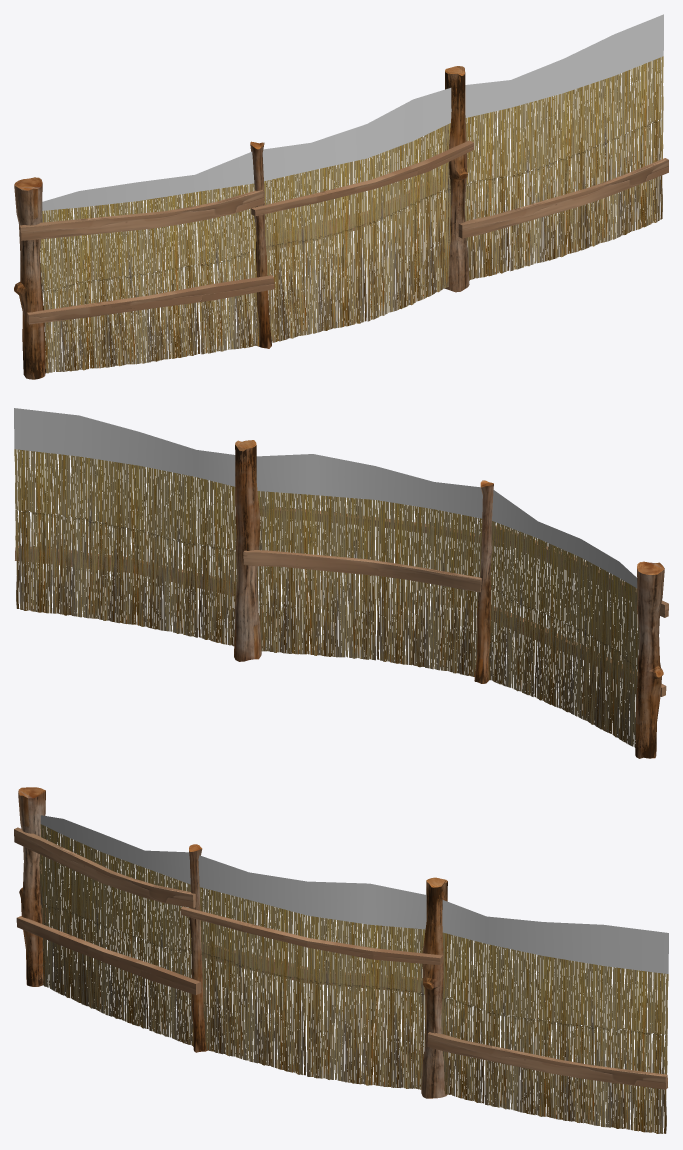
The model's file is bambooFence_Triple.fbx.
3 renders of one model, top to bottom at view 1: azimuth 30°, elevation 25°; view 2: azimuth 150°, elevation 25°; view 3: azimuth 330°, elevation 25°, orthographic.
Parts seen in each view (by area): view 1: bambooFence1; view 2: bambooFence1; view 3: bambooFence1.
Boxes of the visible parts, x1=… form: bambooFence1: x1=14, y1=14, x2=668, y2=379; bambooFence1: x1=14, y1=408, x2=668, y2=758; bambooFence1: x1=14, y1=787, x2=668, y2=1133.
Bounding box in the file's own units: 986 × 313 × 123.
